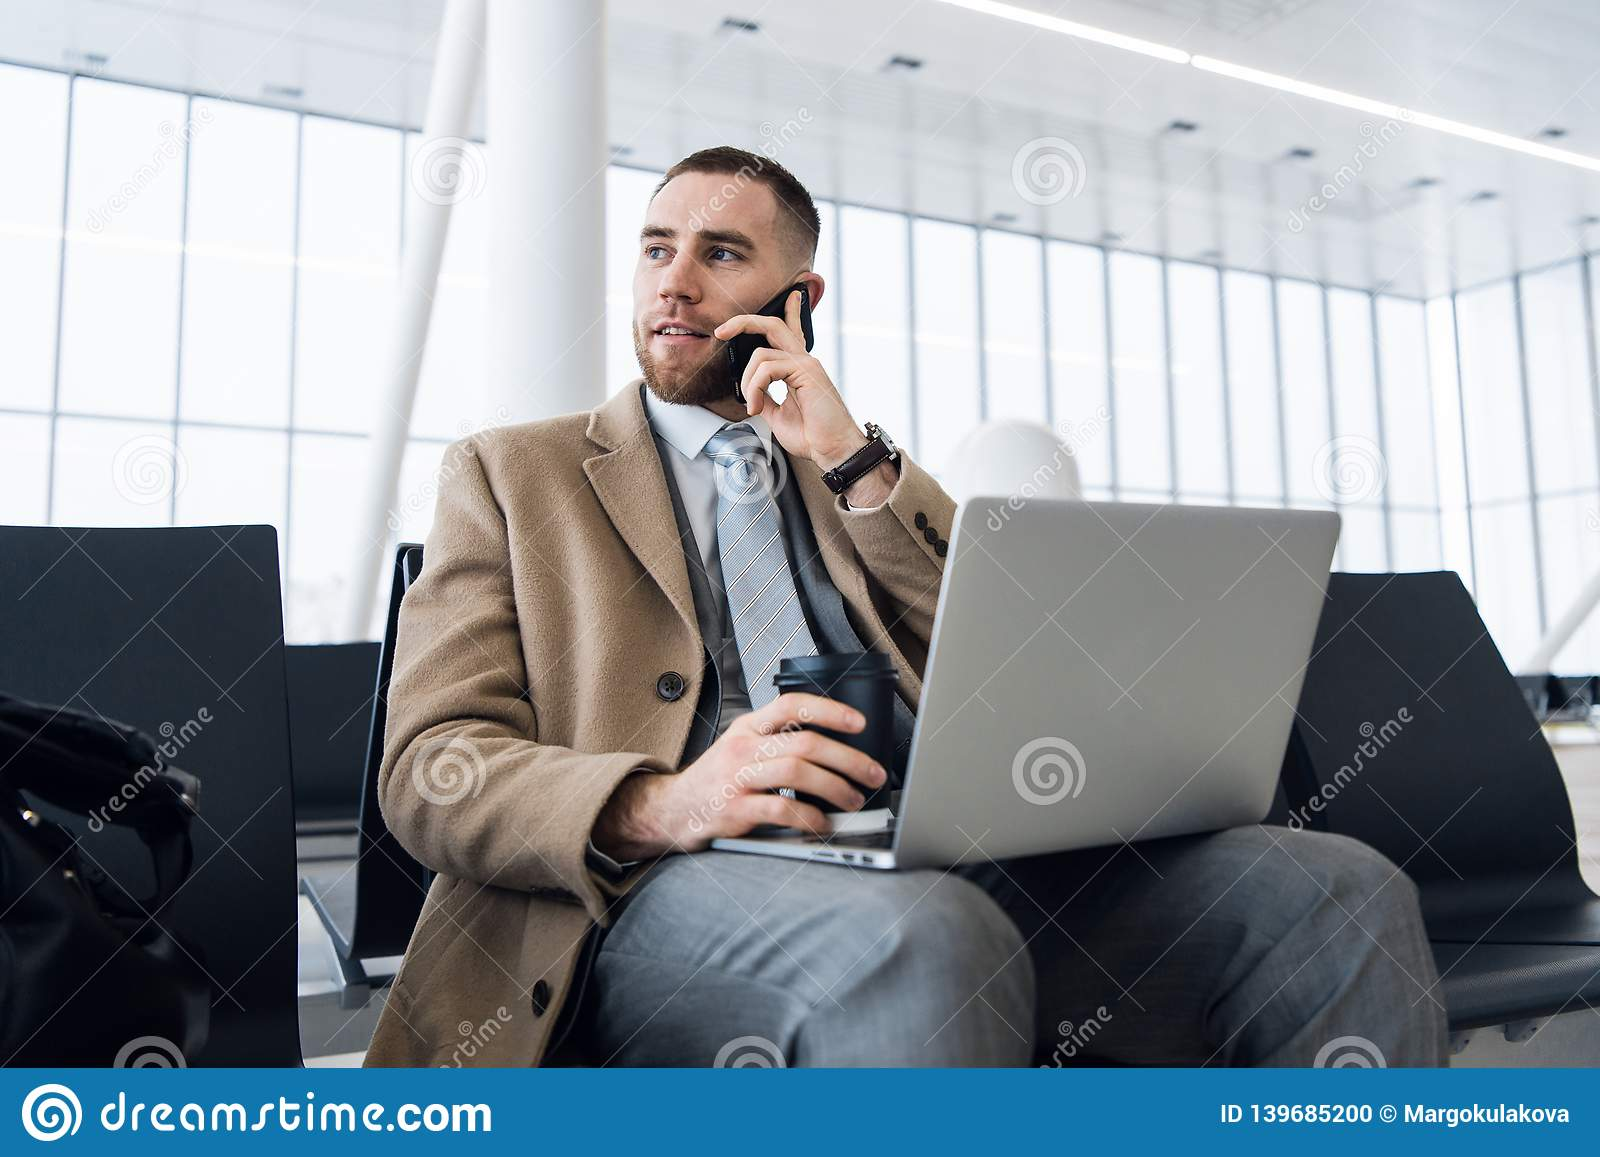phone: (724, 280, 817, 399)
talk: (630, 222, 848, 466)
